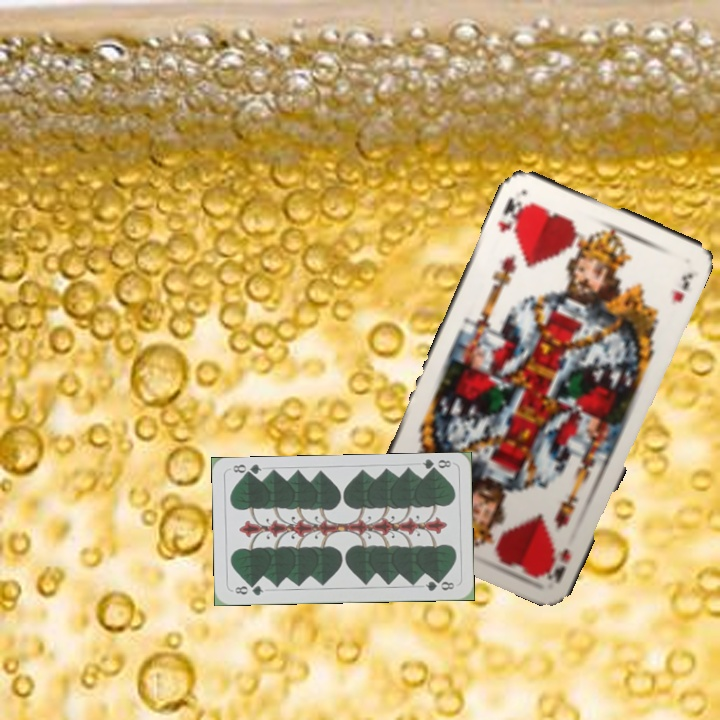G8: (418, 456, 453, 476), (231, 581, 266, 598)
HK: (493, 193, 528, 236), (543, 544, 573, 585)
